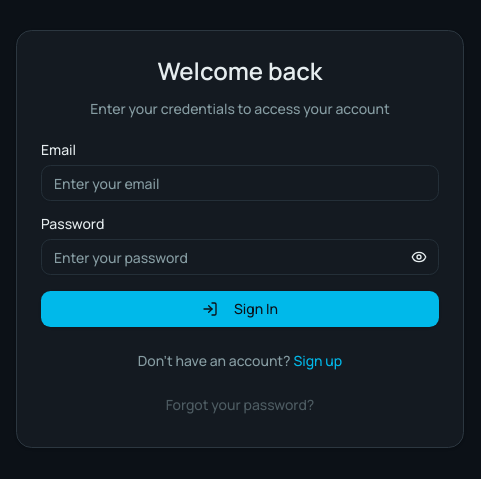
Login › shows zod validation error for short password
Type "valid@example.com" into the field labelled "Email" at (240, 183), box [41,165,439,201]
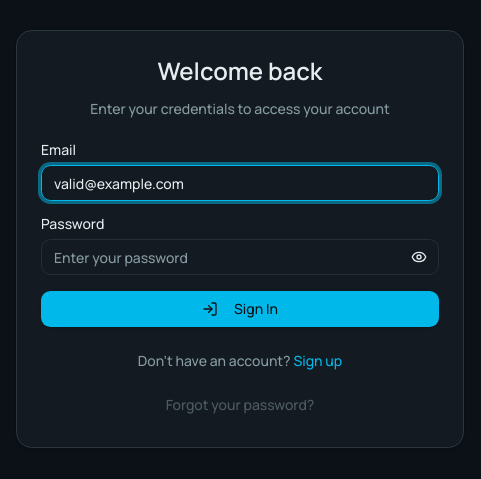
Type "123" into the password field labelled "Password" at (240, 257), box [41,239,439,275]
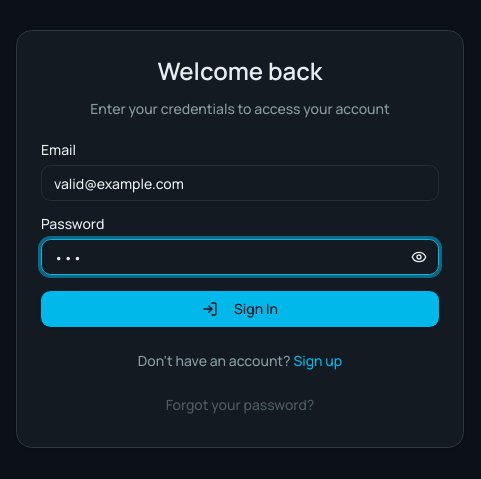
Click the button "Sign In" at (240, 309), box [41,291,439,327]
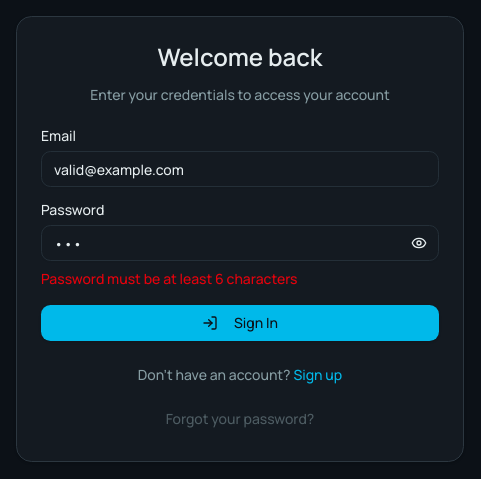
expect the text "Password must be at least 6 characters" is shown: met, box [41,269,298,288]
